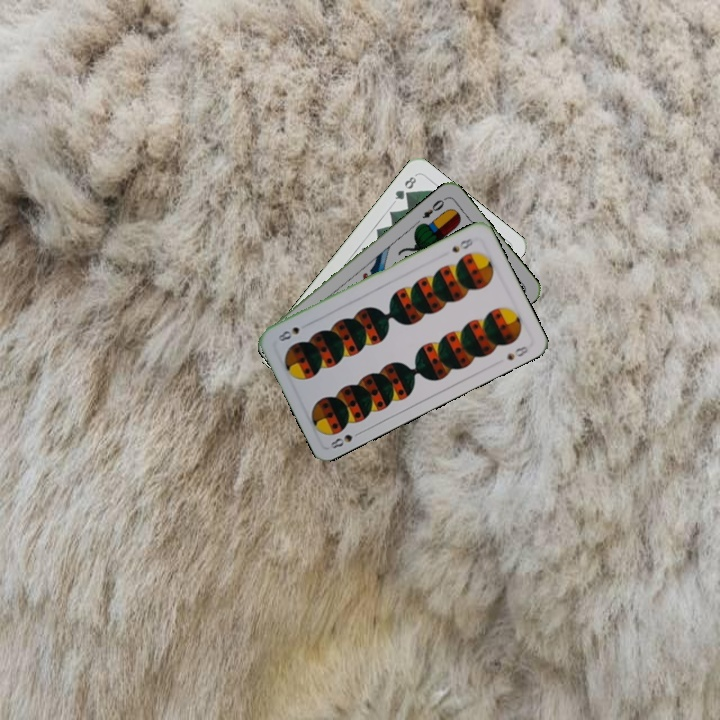EO: (418, 194, 449, 221)
G8: (391, 171, 419, 202)
S8: (326, 427, 365, 451), (448, 234, 476, 255)
